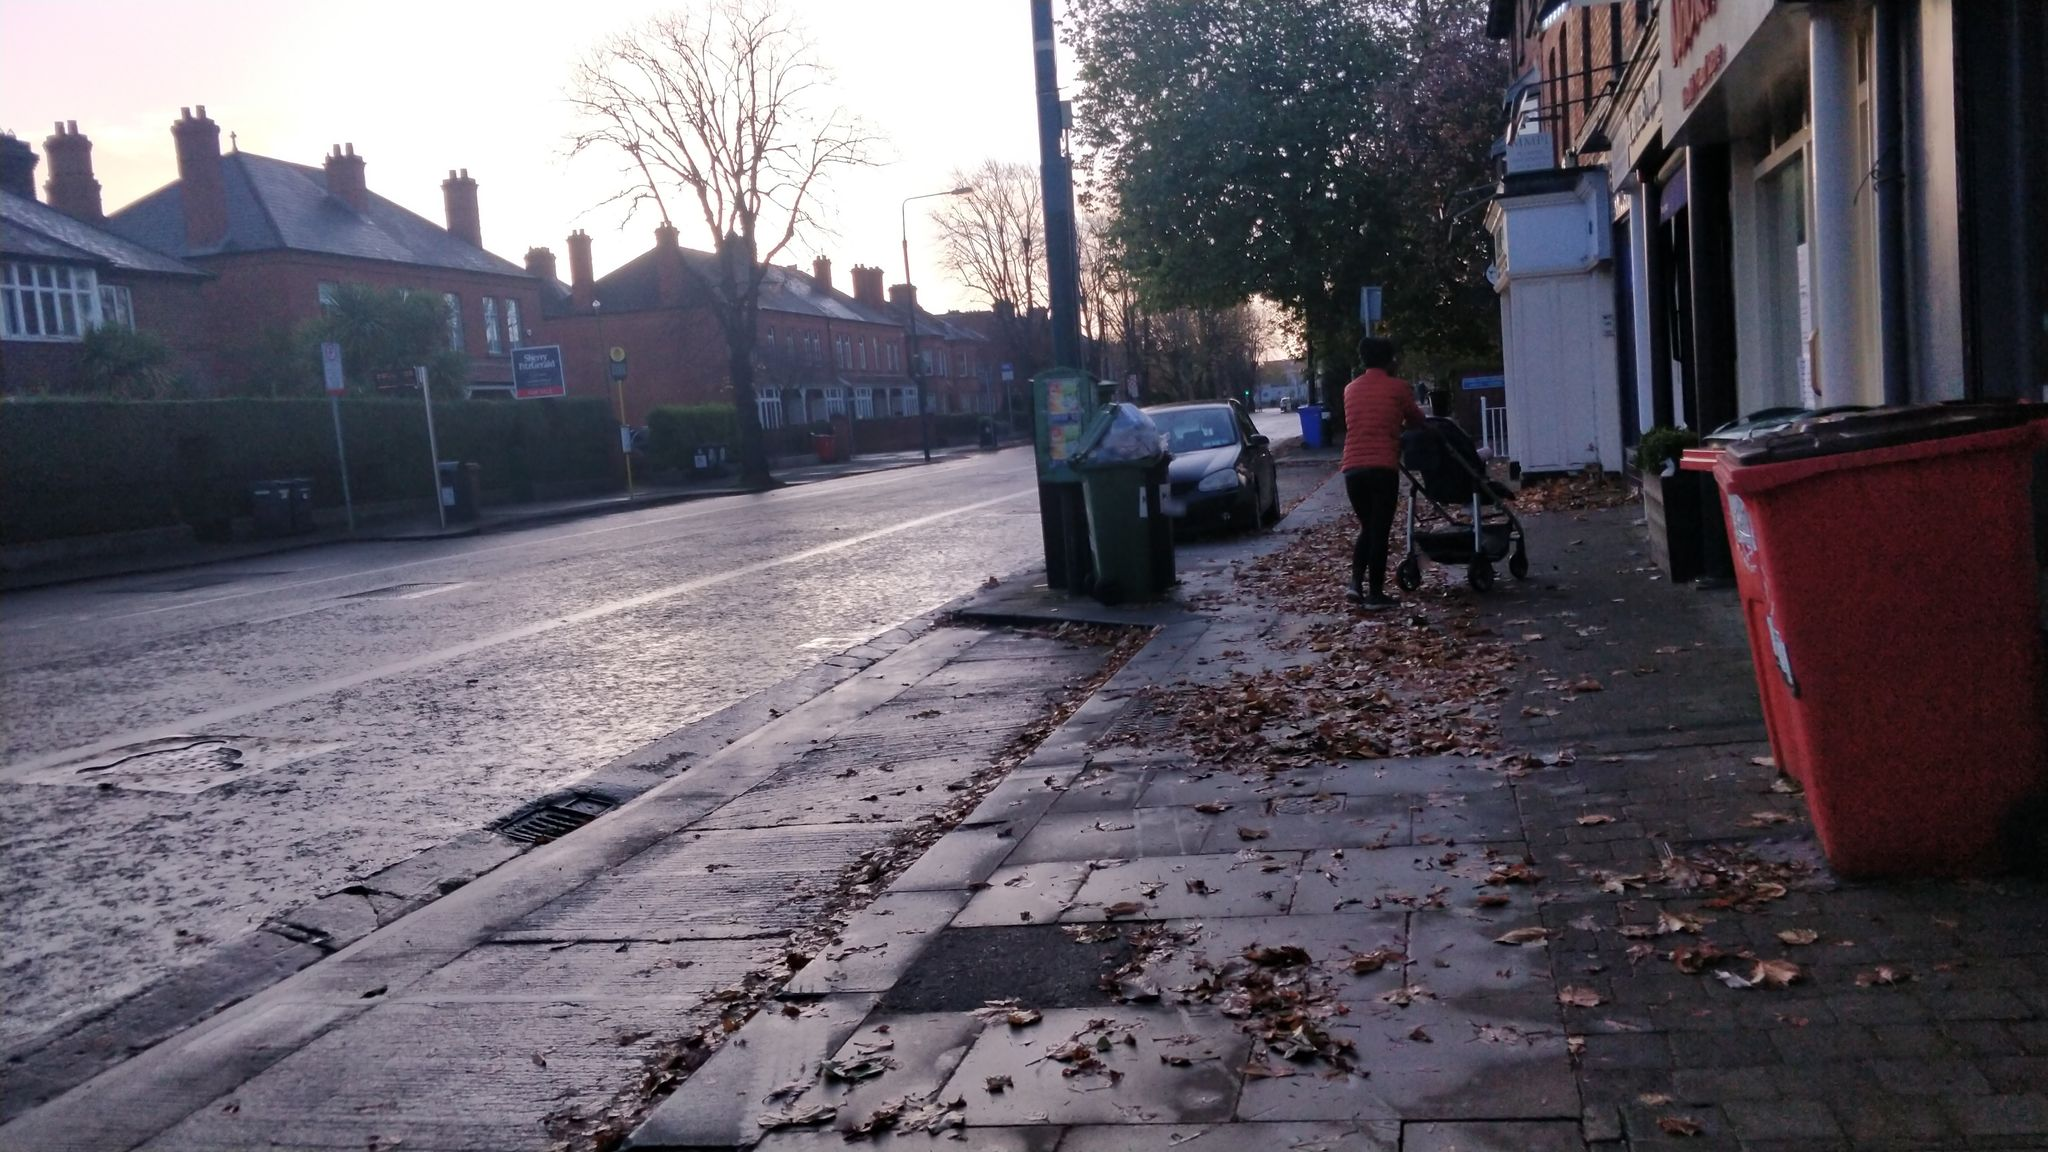property sign: (504, 340, 574, 407)
